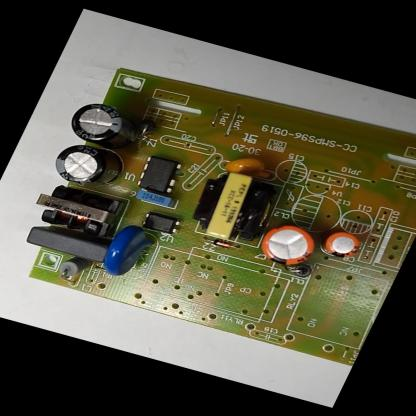Cap1: (252, 220, 325, 272)
Cap2: (320, 228, 366, 261)
Cap3: (48, 136, 134, 193)
Cap4: (63, 97, 150, 154)
MOSFET: (133, 152, 187, 196)
Mov: (96, 220, 160, 282)
Resistor: (55, 252, 97, 282)
Transformer: (183, 164, 286, 249), (28, 181, 127, 240)
